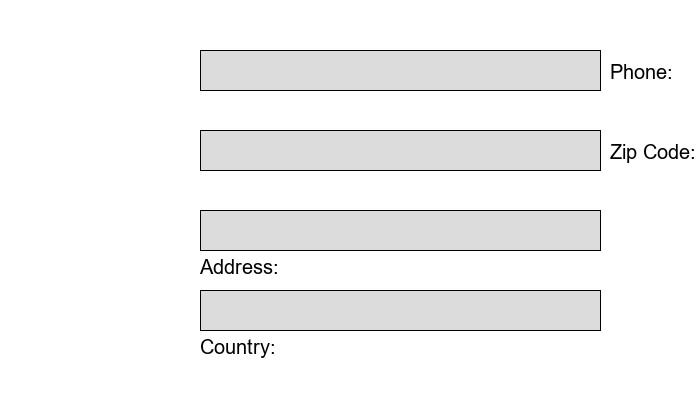Label: (610, 140, 690, 159), (200, 335, 270, 354), (200, 255, 274, 270), (610, 60, 667, 75)
Textbox: (200, 50, 600, 90), (200, 130, 600, 170), (200, 210, 600, 250), (200, 290, 600, 330)
